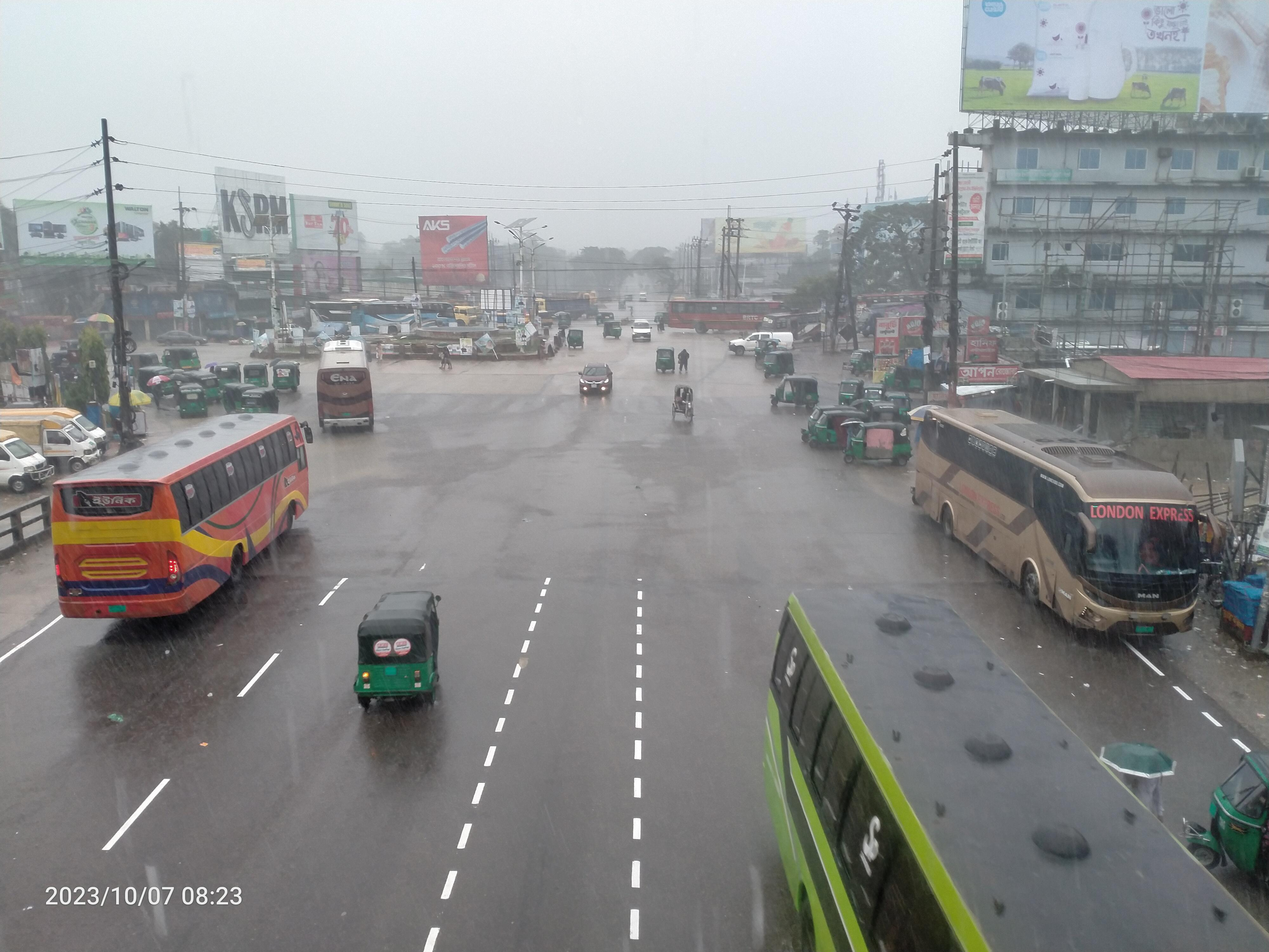Bus: (734, 559, 1269, 952), (878, 385, 1243, 677), (15, 393, 335, 642), (301, 320, 390, 450), (654, 288, 842, 340), (346, 294, 462, 343), (847, 286, 952, 326), (299, 293, 355, 339)
Car: (569, 351, 622, 414), (666, 380, 707, 429), (722, 328, 777, 360), (623, 313, 661, 346), (636, 290, 650, 305)
Truck: (454, 297, 485, 330)
